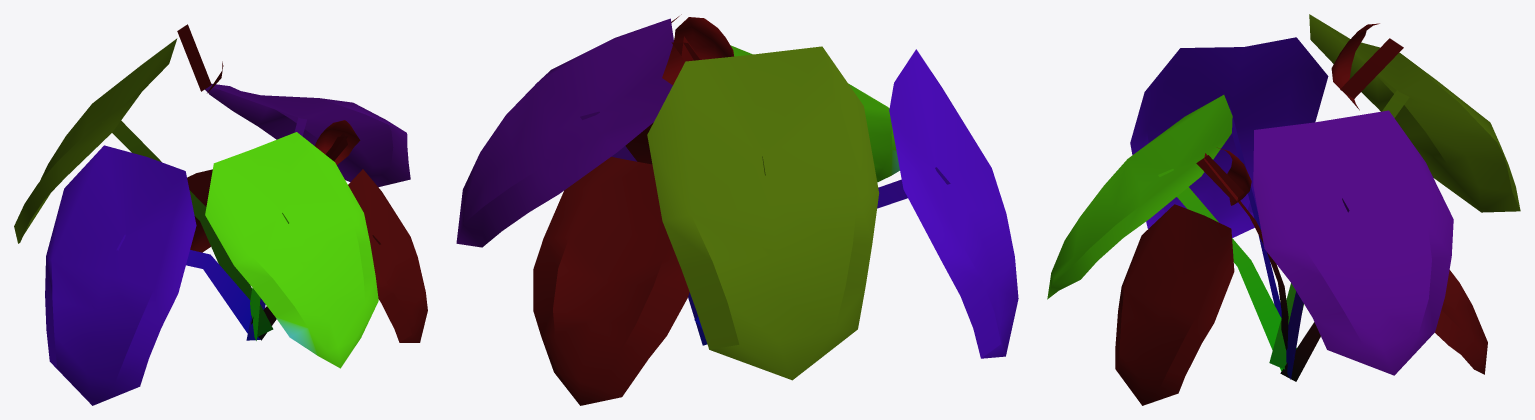
File: Anthurium_var4.fbx
3 renders of one model, left to right at view 1: azimuth 30°, elevation 25°; view 2: azimuth 150°, elevation 25°; view 3: azimuth 270°, elevation 25°, orthographic. The views are drawn at different scales.
Parts seen in each view (by area): view 1: Anthurium_var4_LOD0; view 2: Anthurium_var4_LOD0; view 3: Anthurium_var4_LOD0.
Part boxes in pixels (x1,y1,x2,y2): Anthurium_var4_LOD0: (14,24,427,405); Anthurium_var4_LOD0: (456,14,1018,405); Anthurium_var4_LOD0: (1047,14,1520,405).
Size of what is drawn, in the model's own units: 5.57 by 4.21 by 5.22.
